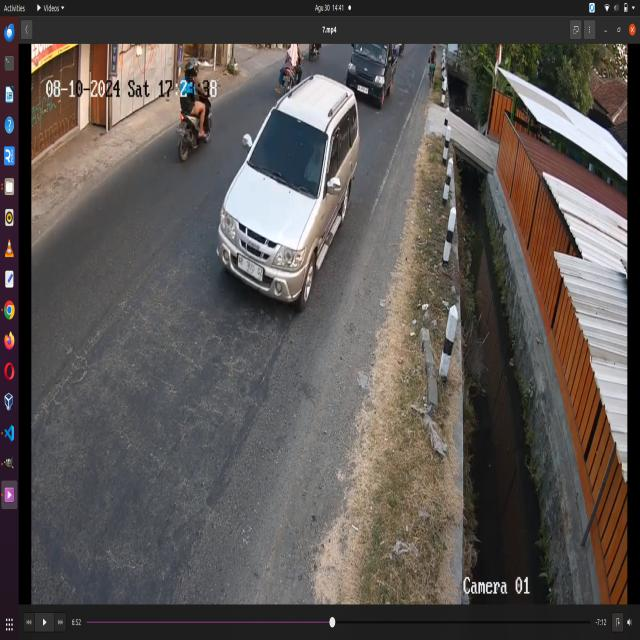person_without_seatbelt: (304, 126, 328, 197)
